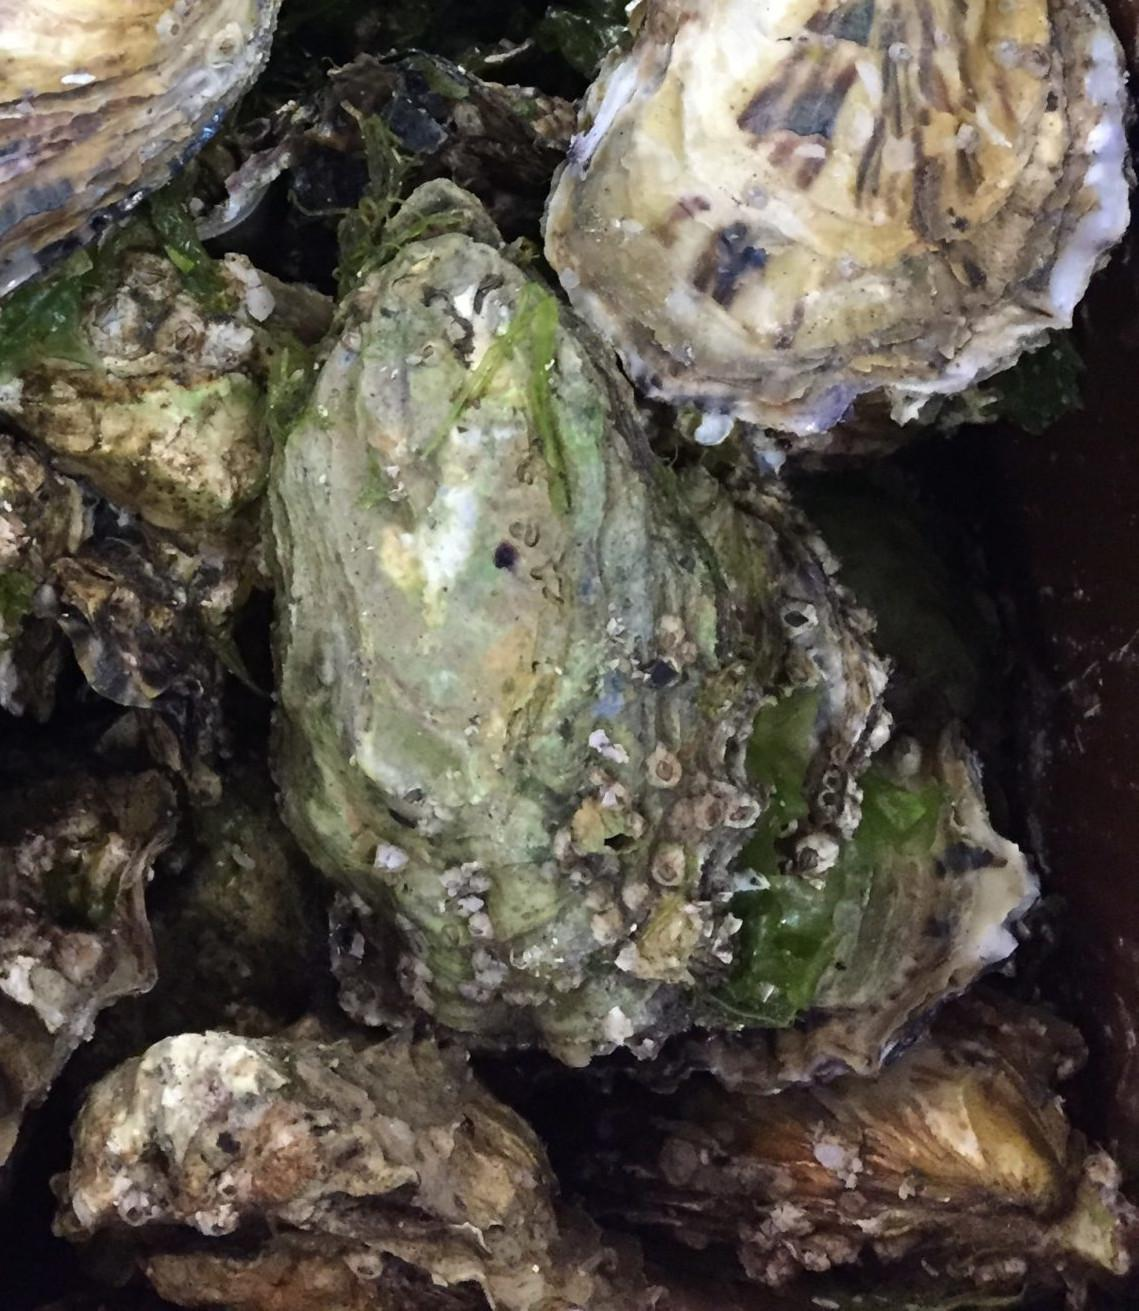Oyster-Closed: (58, 1023, 776, 1311), (566, 996, 1130, 1311), (591, 721, 1033, 1090), (0, 768, 179, 1196), (40, 516, 253, 802), (786, 473, 1018, 727)
Oyster-Open: (269, 184, 890, 1056), (543, 0, 1131, 437), (68, 677, 389, 1081), (0, 173, 283, 585), (0, 2, 278, 292), (284, 49, 576, 224), (0, 441, 120, 729)
